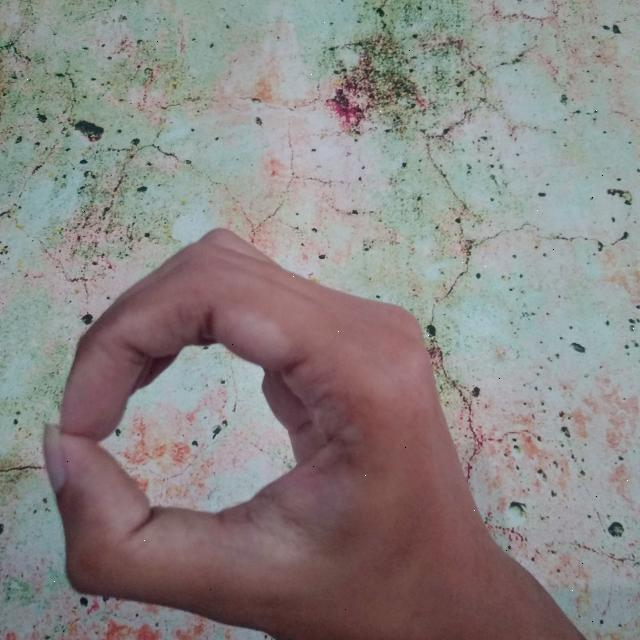O: (34, 219, 594, 640)
